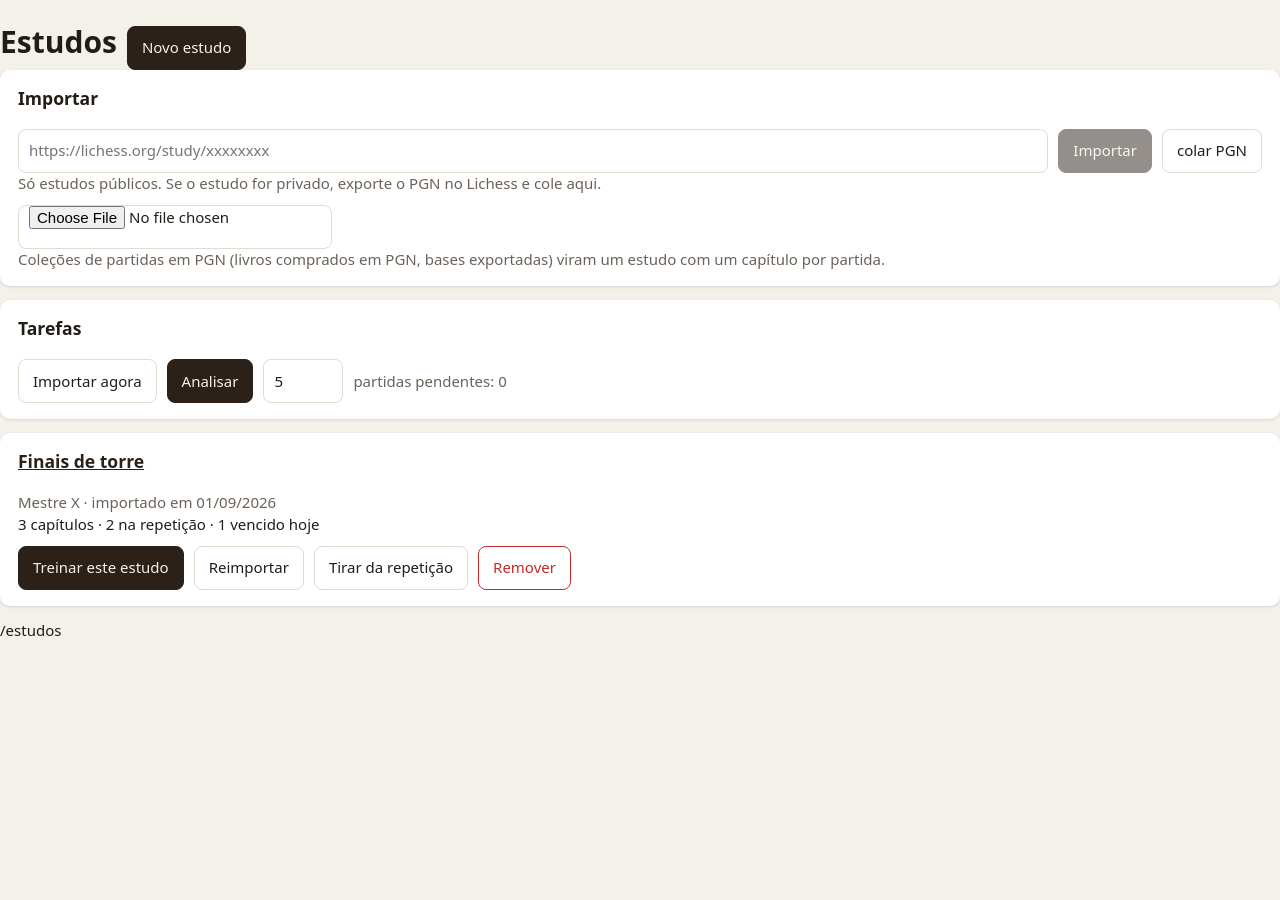
Test: novo estudo sem título não deixa criar
expect the link "Finais de torre" is shown: met, box 18,449 -> 144,473
Click the button "Novo estudo". click: [187, 48]
box: 127,26 -> 246,70
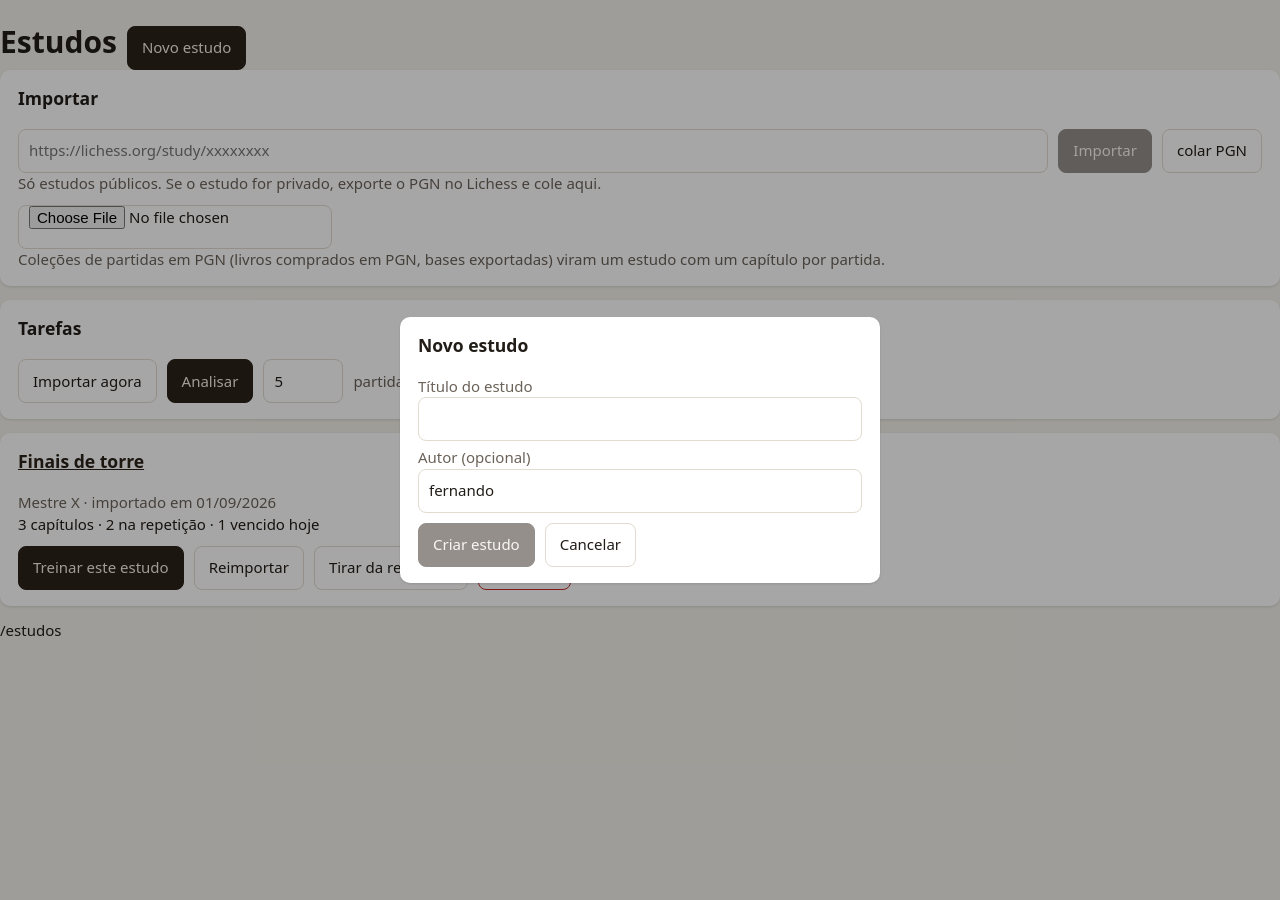
expect the button "Criar estudo" is disabled: met, box 418,523 -> 535,567
